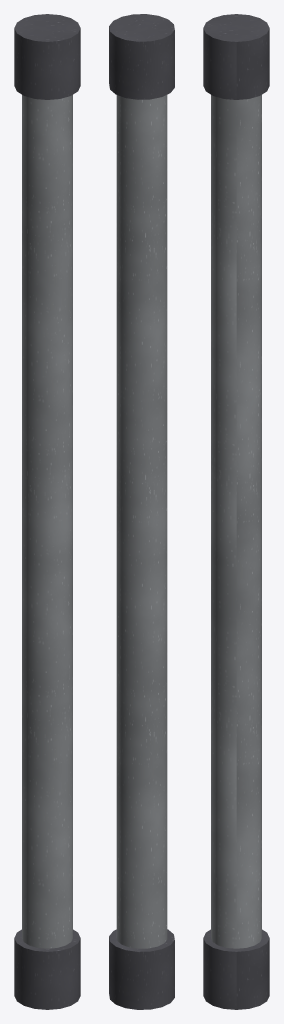
Rendered from pipe.glb.
3 renders of one model, left to right at view 1: azimuth 90°, elevation 25°; view 2: azimuth 150°, elevation 25°; view 3: azimuth 270°, elevation 25°, orthographic.
Visible parts, largest first — view 1: pipe; view 2: pipe; view 3: pipe.
Boxes of the visible parts, left/top/right/bottom form: pipe: left=14, top=14, right=80, bottom=1009; pipe: left=109, top=14, right=174, bottom=1009; pipe: left=203, top=14, right=269, bottom=1009.
Bounding box in the file's own units: 0.062 × 1 × 0.062.
Materials: 2 (2 with a texture image).
